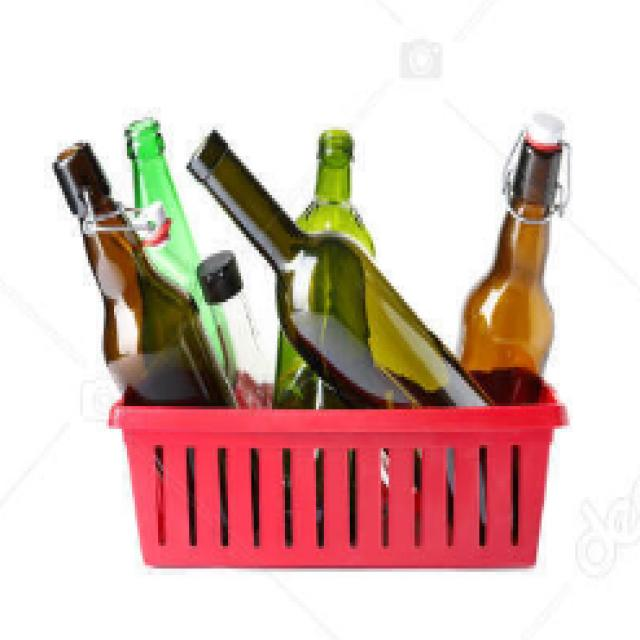dry: (139, 411, 529, 561)
